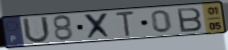0: (150, 9, 175, 35)
8: (51, 14, 75, 43)
B: (175, 6, 204, 33)
T: (115, 10, 137, 38)
U: (21, 16, 52, 45)
X: (83, 11, 114, 41)
